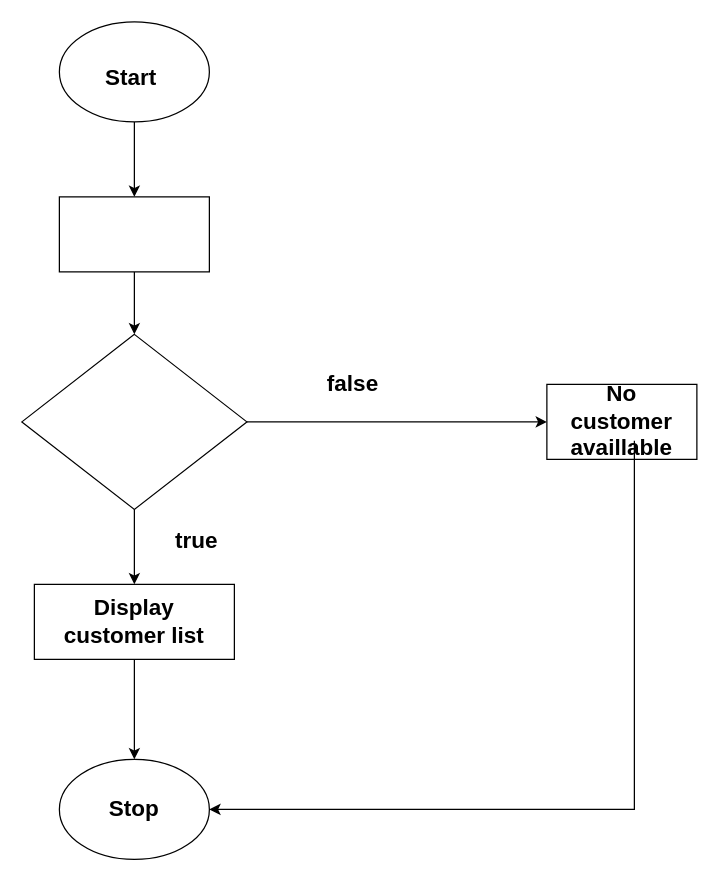
The diagram is 719 pixels wide and 881 high, and some of its shapes have lost their labels. Each missing label, with the centre of its shape:
"If customer available" goes at pixel 134 421.
"View customer" goes at pixel 133 234.
